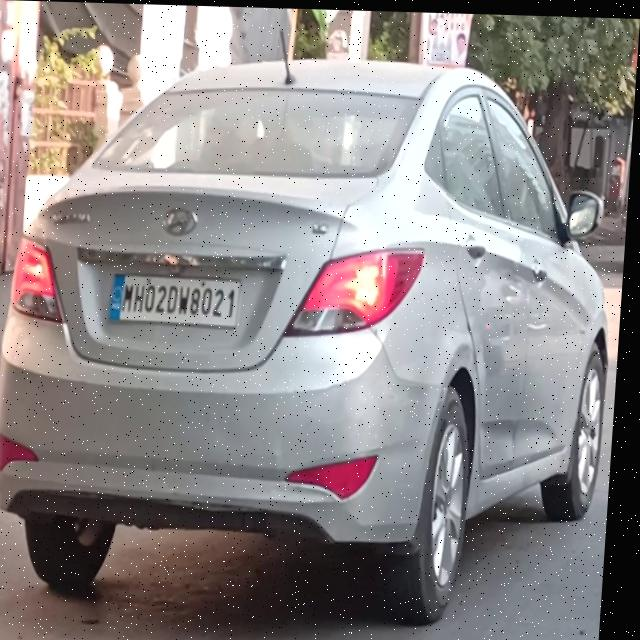plate: (111, 269, 246, 331)
